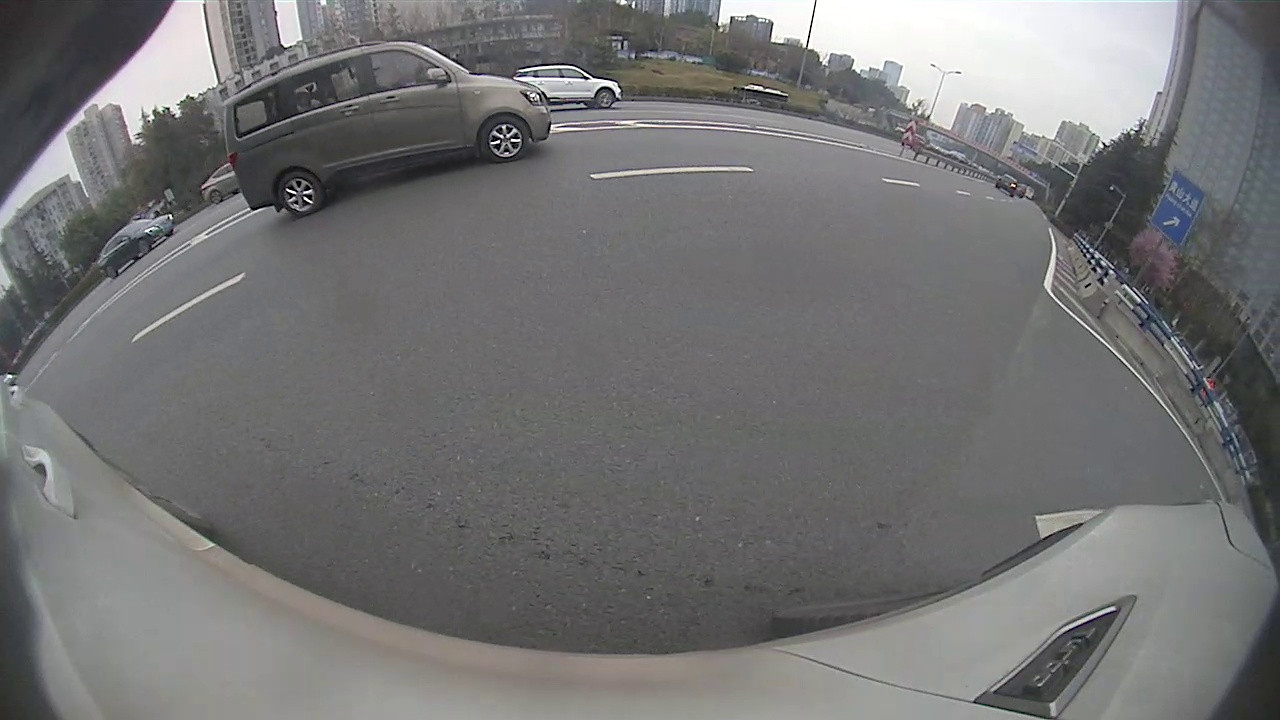car: (221, 38, 553, 217), (94, 212, 176, 281), (510, 63, 623, 110), (996, 171, 1018, 198)
front: (479, 114, 531, 164), (593, 87, 615, 109), (137, 238, 151, 256)
rear: (277, 168, 326, 219), (209, 189, 223, 204), (105, 265, 119, 280)
